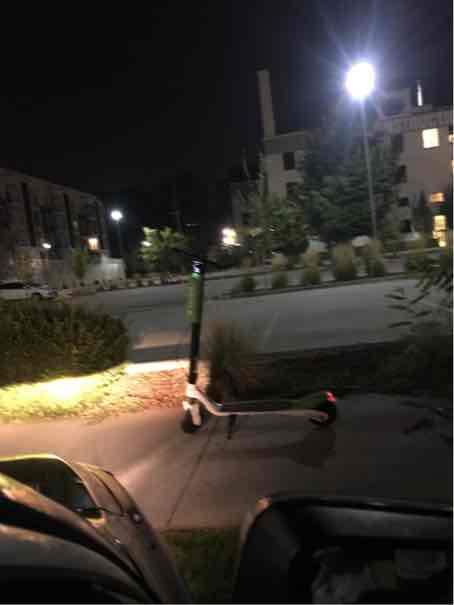scooter: (155, 242, 346, 445)
